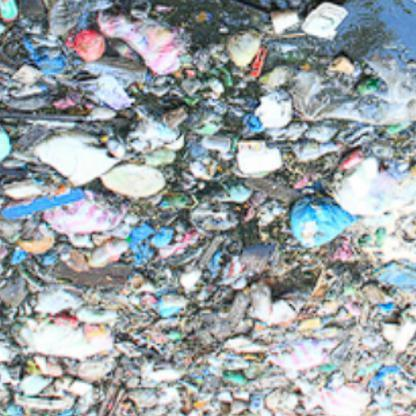Metal: (200, 125, 236, 156)
Plastic: (82, 236, 134, 275), (267, 11, 304, 35)
Trash: (280, 61, 415, 125), (93, 2, 202, 79), (331, 154, 403, 224), (70, 48, 151, 103), (288, 193, 353, 246), (303, 5, 353, 42), (56, 29, 112, 58), (140, 116, 188, 144), (19, 56, 70, 82), (213, 364, 254, 392), (150, 290, 184, 320), (127, 220, 156, 252), (127, 241, 154, 272), (132, 272, 160, 296), (152, 225, 176, 252), (245, 110, 264, 137)
